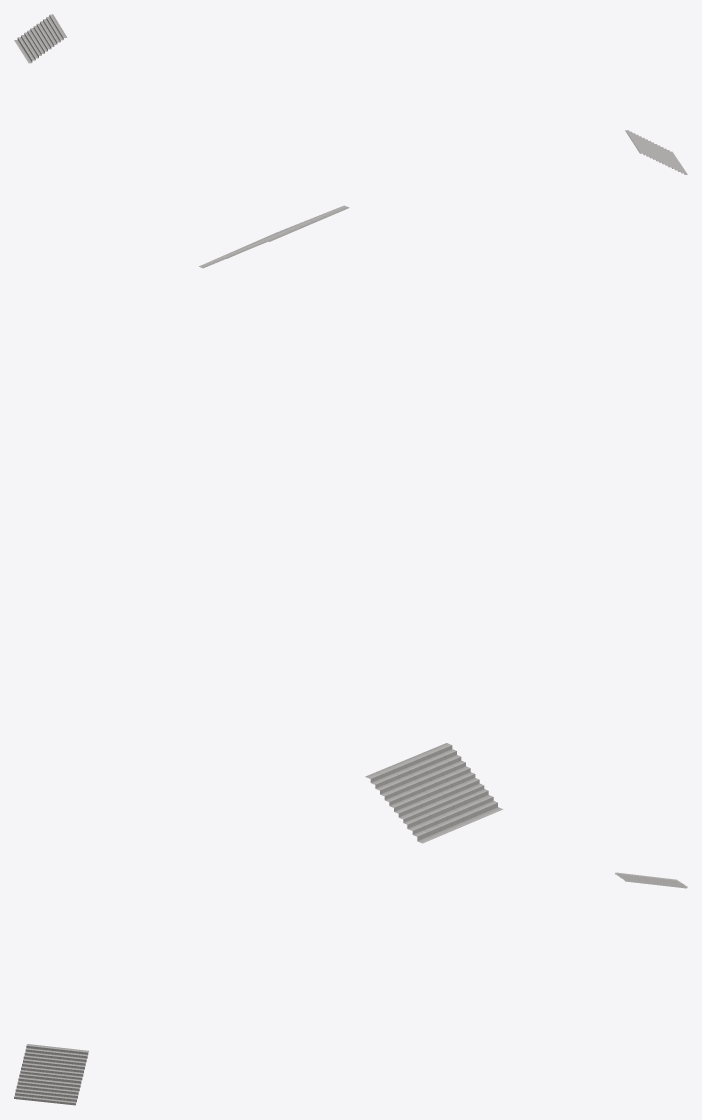
The model's file is kd_stage_136599_2_6_bounded.glb.
The picture shows the model from 3 angles, top to bottom: view 1: azimuth 30°, elevation 25°; view 2: azimuth 150°, elevation 25°; view 3: azimuth 270°, elevation 25°; orthographic projection. The views are drawn at different scales.
Parts seen in each view (by area): view 1: kd_stage_136599_2_6_bounded; view 2: kd_stage_136599_2_6_bounded; view 3: kd_stage_136599_2_6_bounded.
Part boxes in pixels (x1=…): kd_stage_136599_2_6_bounded: x1=14, y1=14, x2=687, y2=174; kd_stage_136599_2_6_bounded: x1=199, y1=205, x2=502, y2=843; kd_stage_136599_2_6_bounded: x1=14, y1=872, x2=687, y2=1105.
Size of the model in its own units: 72.84 by 5 by 95.37.
1 material, 1 textured.
